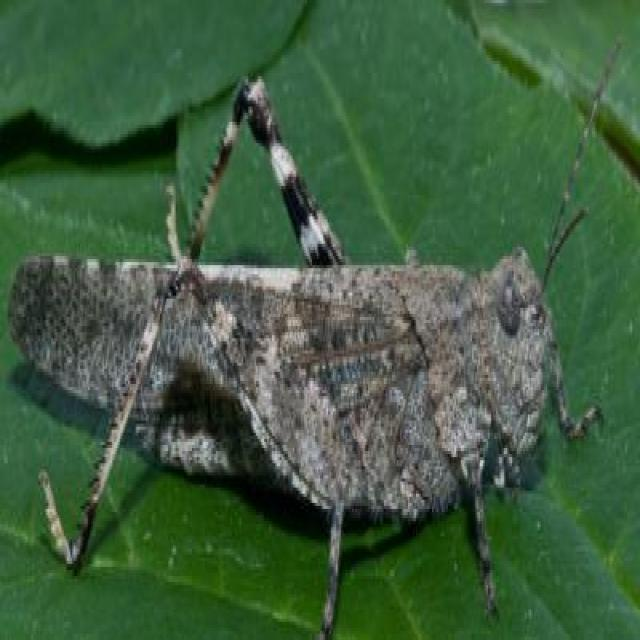antennae: (541, 36, 623, 277), (534, 209, 587, 292)
body: (141, 254, 540, 479)
insect: (8, 34, 625, 640)
legs: (33, 260, 357, 599), (162, 68, 346, 266), (316, 415, 372, 632), (459, 428, 502, 624)
mouthpart: (495, 376, 546, 489)
wings: (10, 263, 423, 410)
